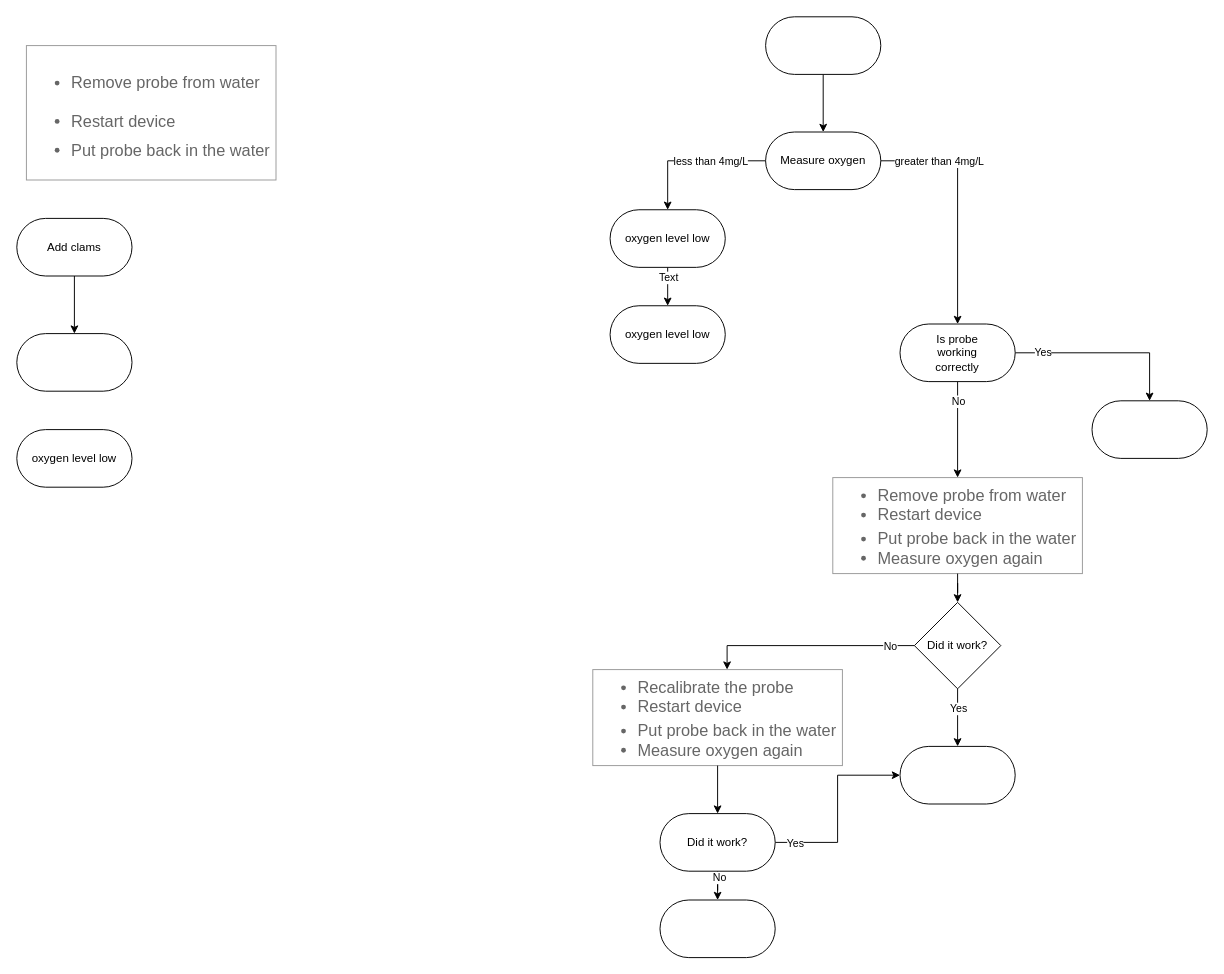
This 1224x974 diagram has some shape labels left out. Here are the shapes that lost their labels. From the top down, the centre of each, then its label:
At (823,45): "Oxygen level".
At (74,362): "Scare eider birds".
At (1149,429): "All ok".
At (957,774): "Measure oxygen level again".
At (717,928): "Call technical support".
